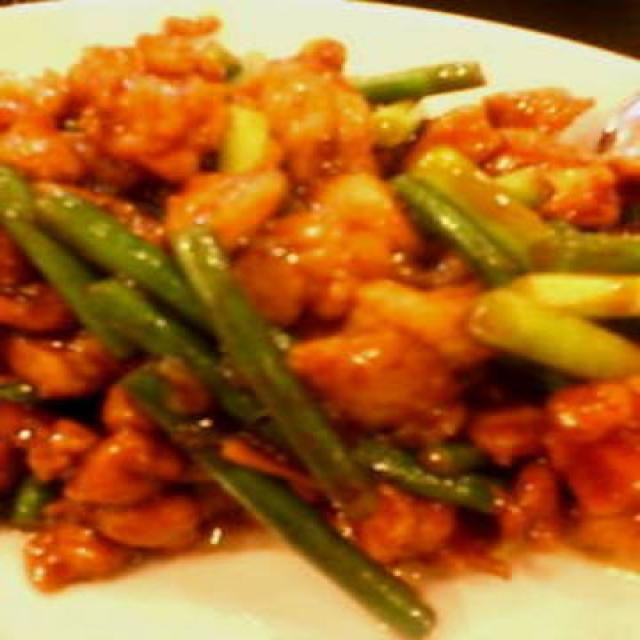熟制海鲜: (0, 16, 636, 612)
